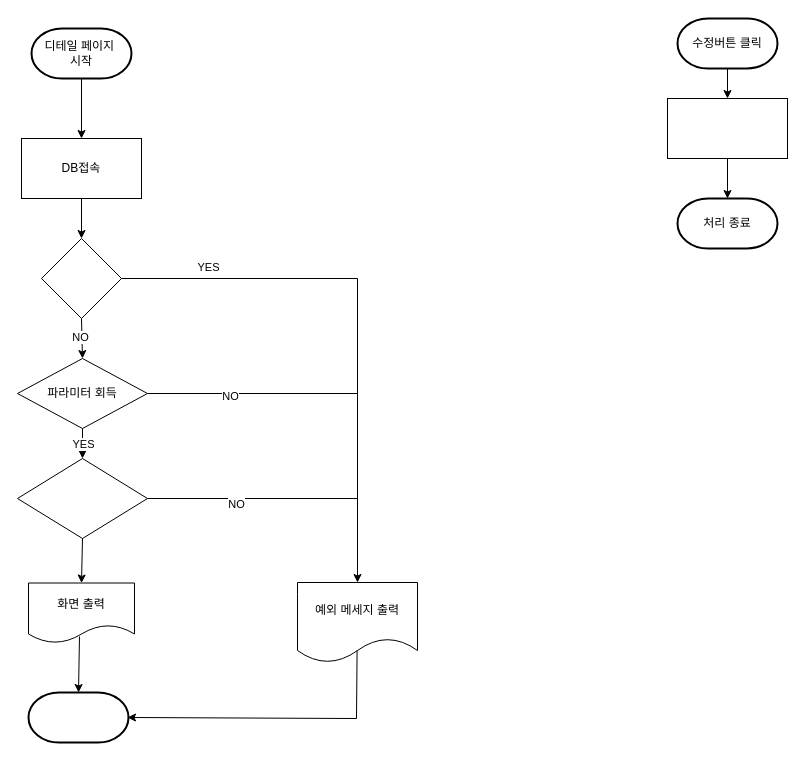
The diagram is 805 pixels wide and 760 high, and some of its shapes have lost their labels. Each missing label, with the box of its shape:
DB 접속 예외 발생: (40, 238, 122, 318)
게시글 정보 획득: (16, 458, 148, 538)
디테일 페이지 종료: (27, 691, 129, 743)
수정 페이지로 이동: (666, 98, 788, 158)
